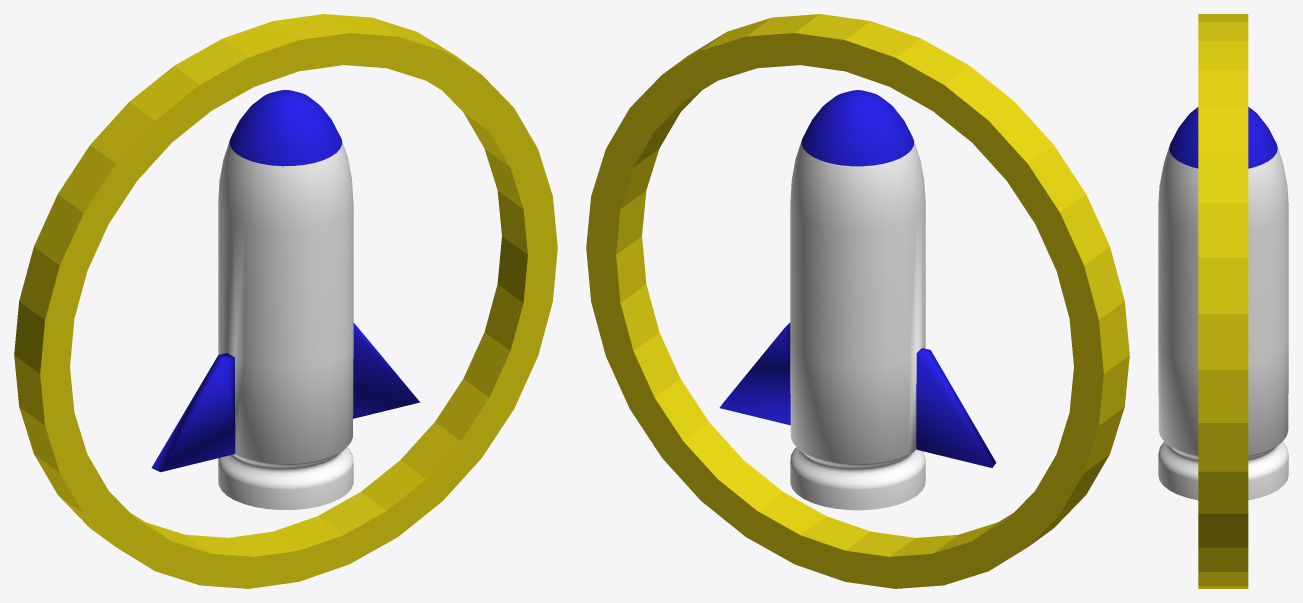
Rendered from MissilePowerUp1.fbx.
3 renders of one model, left to right at view 1: azimuth 30°, elevation 25°; view 2: azimuth 150°, elevation 25°; view 3: azimuth 270°, elevation 25°, orthographic. The views are drawn at different scales.
Parts seen in each view (by area): view 1: Circle, Sphere; view 2: Circle, Sphere; view 3: Sphere, Circle.
Part boxes in pixels (x1,y1,x2,y2): Circle: [14, 14, 557, 588]; Sphere: [151, 90, 419, 509]; Circle: [586, 14, 1129, 588]; Sphere: [719, 90, 996, 510]; Sphere: [1158, 107, 1288, 500]; Circle: [1198, 14, 1248, 588].
Bounding box in the file's own units: 469 × 469 × 107.
